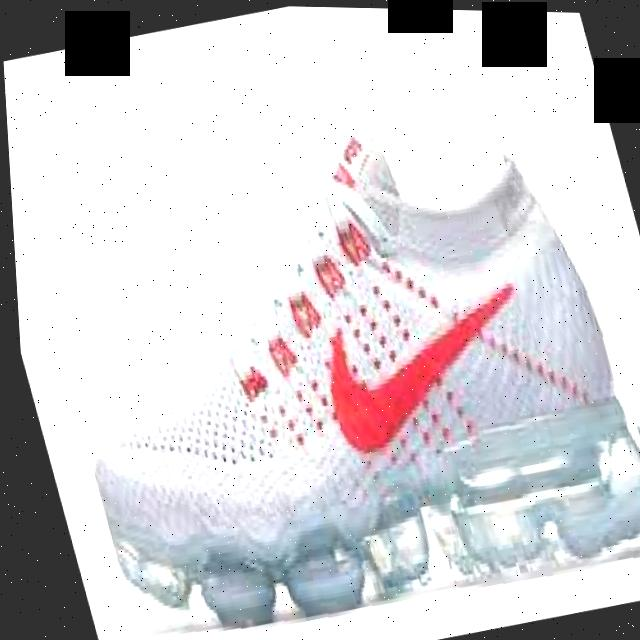shoe: (7, 65, 640, 640)
